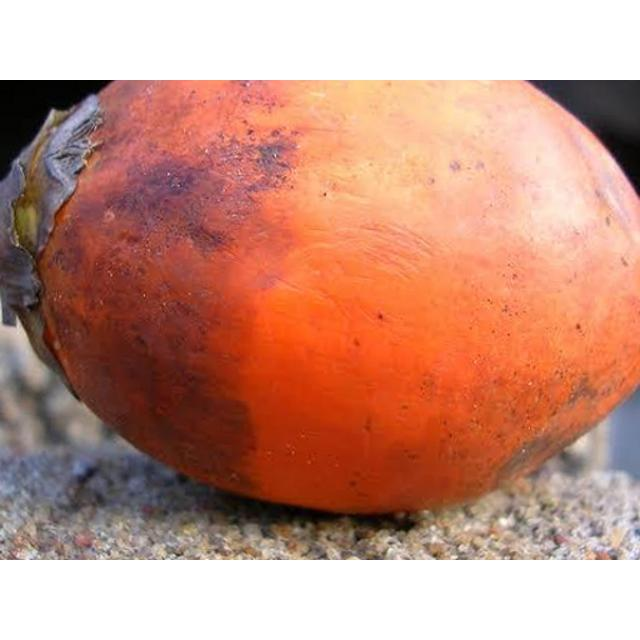good: (0, 80, 639, 518)
